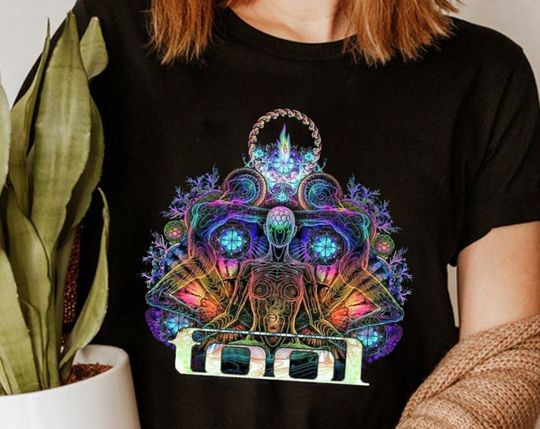design: (136, 105, 415, 387)
